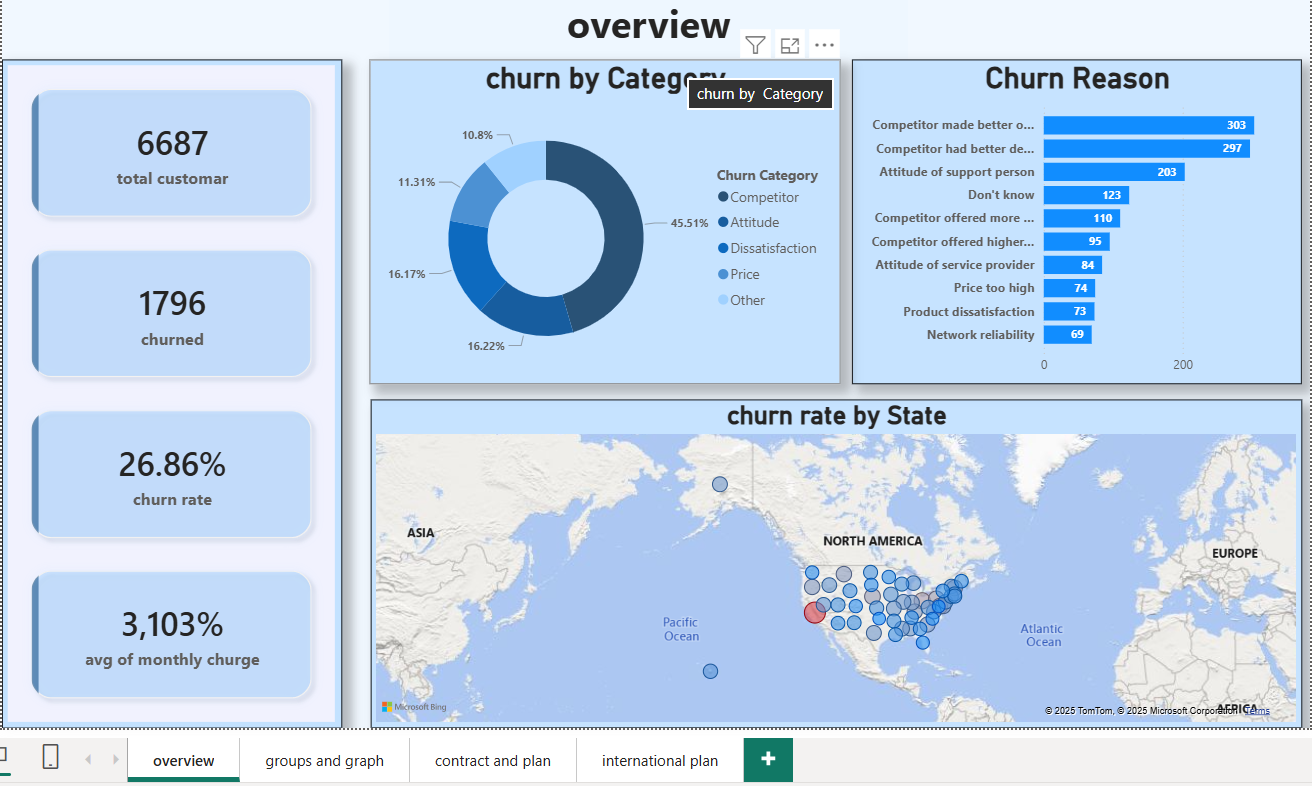

The dashboard page shown, as its layout file describes it:
{"tool":"powerbi","page":{"name":"overview","canvas":[1280,720],"ordinal":0},"visuals":[{"type":"cardVisual","fields":{"Data":["Databel - Data.total customar","Databel - Data.NO of churned","Databel - Data.churn rate","Databel - Data.avg of monthly churge"]},"box":[0,66,332.6,654.2],"z":0},{"type":"textbox","box":[379.1,0,507.5,66],"z":1000},{"type":"barChart","title":" Churn Reason","fields":{"Y":["Databel - Data.total customar"],"Category":["Databel - Data.Churn Reason"]},"box":[831.5,66,440.2,317.9],"z":2000},{"type":"donutChart","title":"churn by  Category","fields":{"Category":["Databel - Data.Churn Category"],"Y":["Databel - Data.total customar"]},"box":[359.5,66,461,317.9],"z":3000},{"type":"map","title":"churn rate by State","fields":{"Size":["Databel - Data.churn rate"],"Category":["Databel - Data.State"]},"box":[360.7,398.6,911,321.6],"z":4000}]}

Visuals, with their boxes in screenshot pixels (x1, y1, x2, y2):
cardVisual - Databel - Data.total customar x Databel - Data.NO of churned: 0/56/336/718
textbox: 383/0/896/56
" Churn Reason" barChart: 841/56/1285/378
"churn by  Category" donutChart: 363/56/829/378
"churn rate by State" map: 365/393/1285/718
